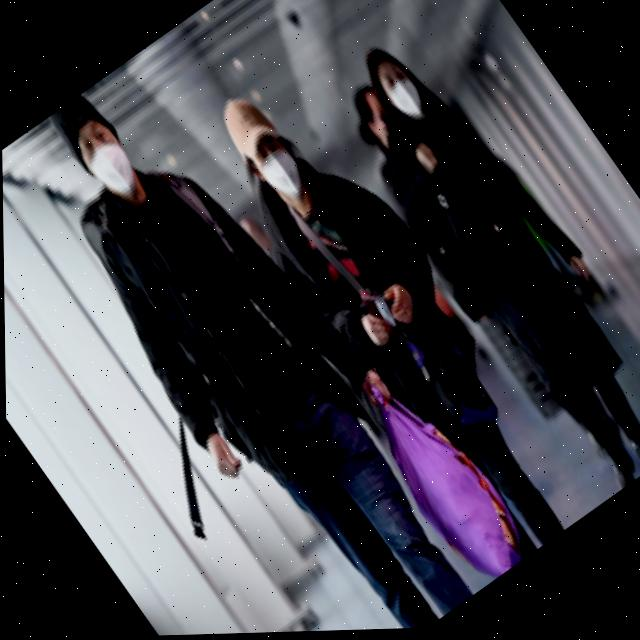Mask: (66, 113, 151, 209), (243, 134, 317, 214), (373, 62, 432, 128)
